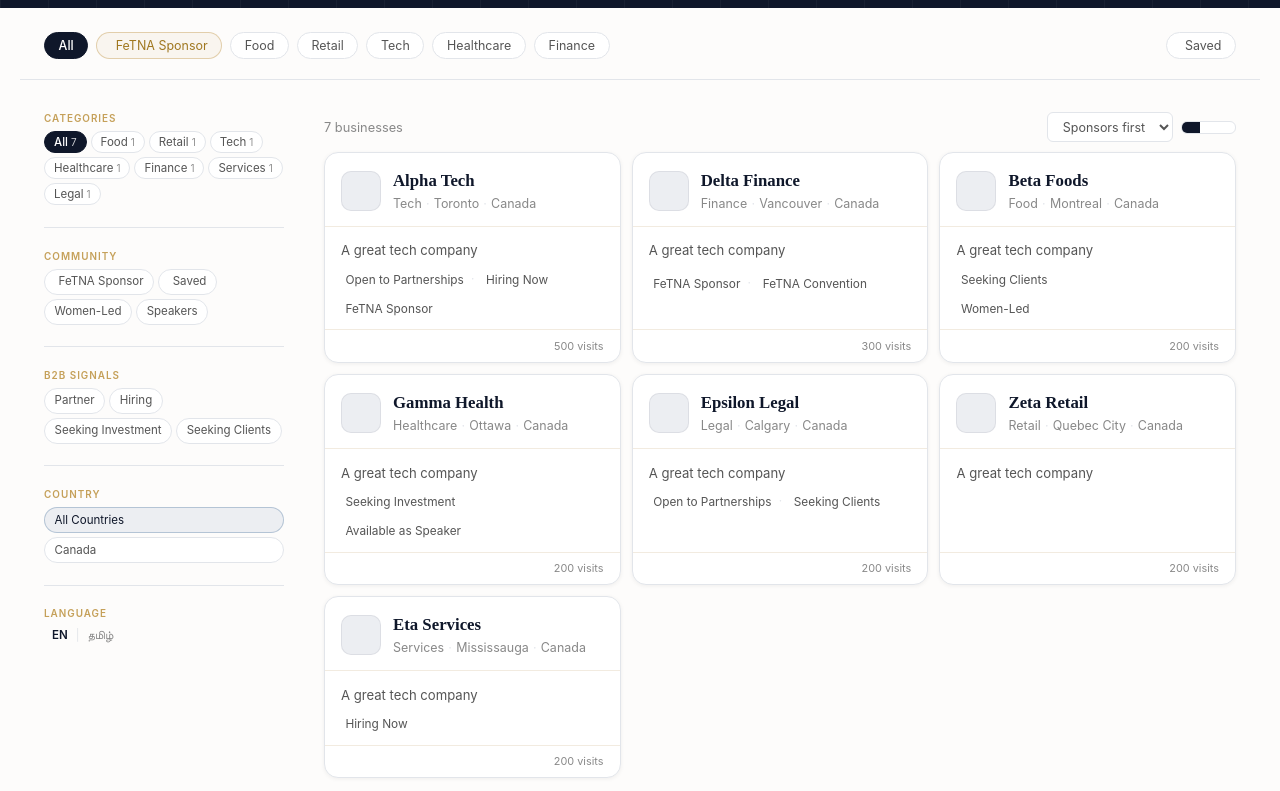
Test: DirectoryClient — B2B signals filter › applies AND logic for multiple signals
(page scrolled)
Click the button "Partner": {"x": 75, "y": 401} left=44, top=388, right=105, bottom=414
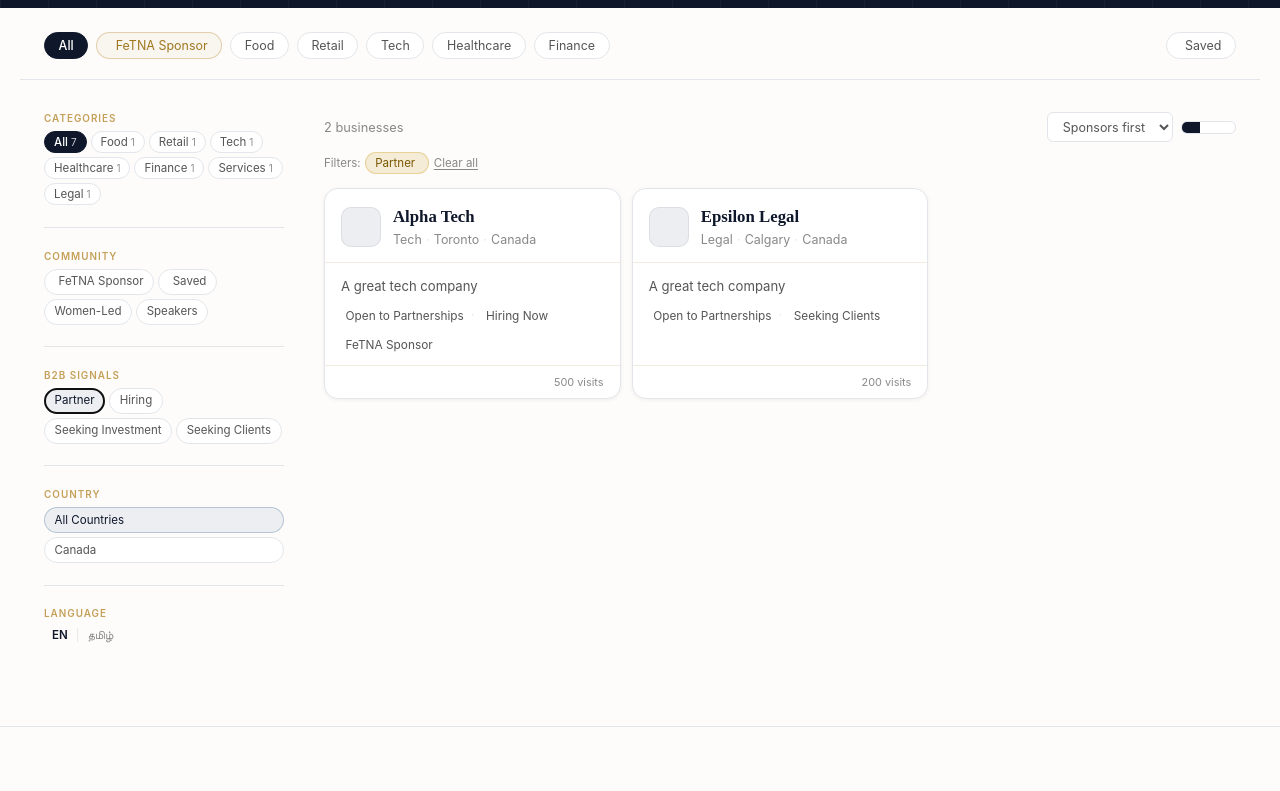
Click the button "Hiring": {"x": 136, "y": 401} left=109, top=388, right=163, bottom=414
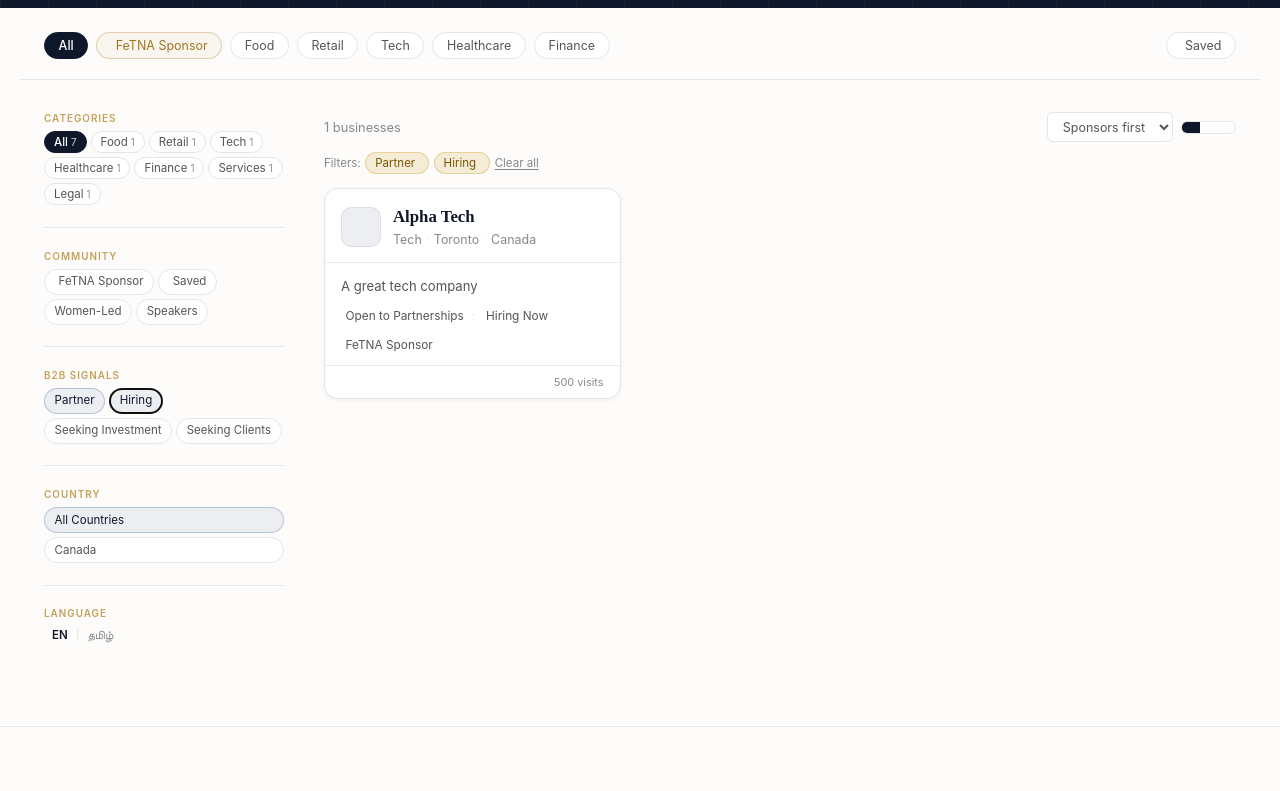
Check: the text "Alpha Tech" is shown, box left=393, top=207, right=475, bottom=226
Check: the text "1 businesses" is shown, box left=324, top=120, right=401, bottom=135
